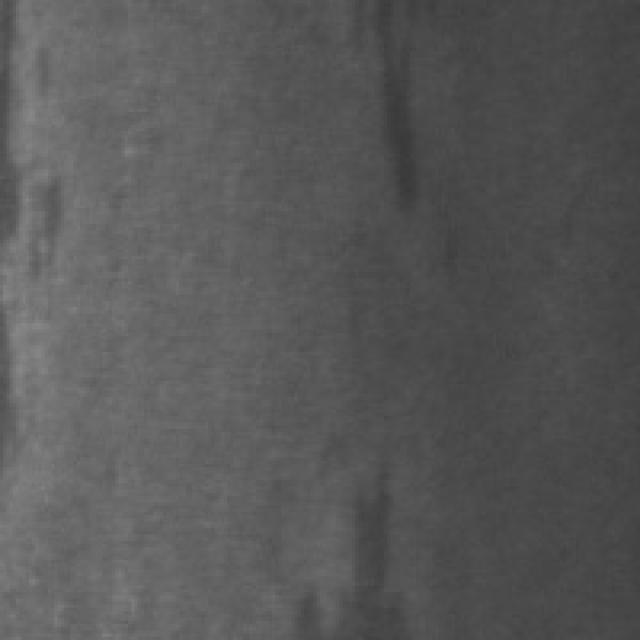inclusion: (339, 0, 448, 237), (314, 442, 416, 634), (3, 154, 90, 314)
